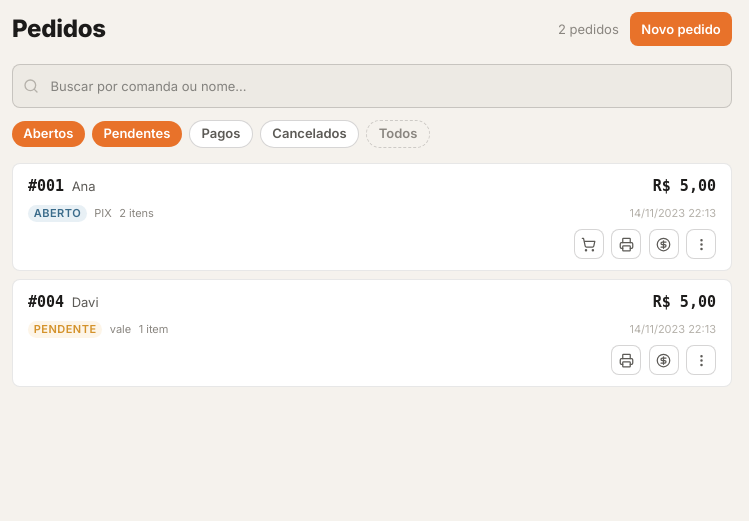
Test: OrdersPage › liga um status a mais sem perder os que já estavam marcados
Expected: the text "#001" is shown, [28,175,64,197]
Click the button "Pagos" at (221, 134), box [189,120,253,148]
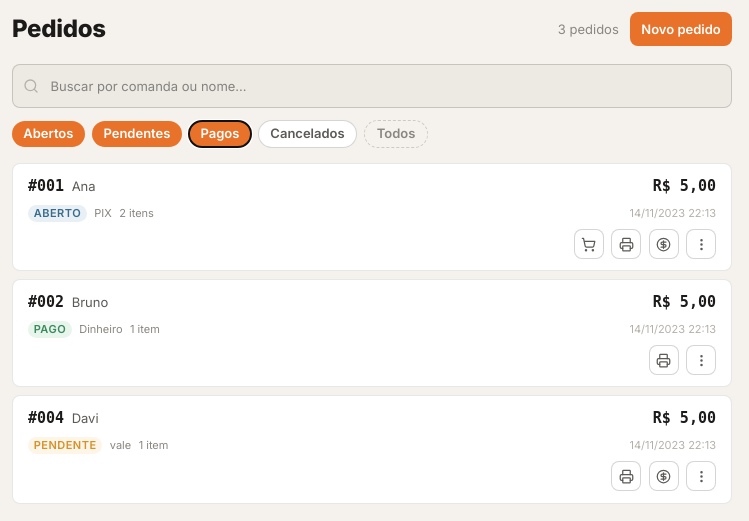
Expected: the text "#001" is shown, [28,175,64,197]
Now the text "#002" is shown, box [28,291,64,314]
